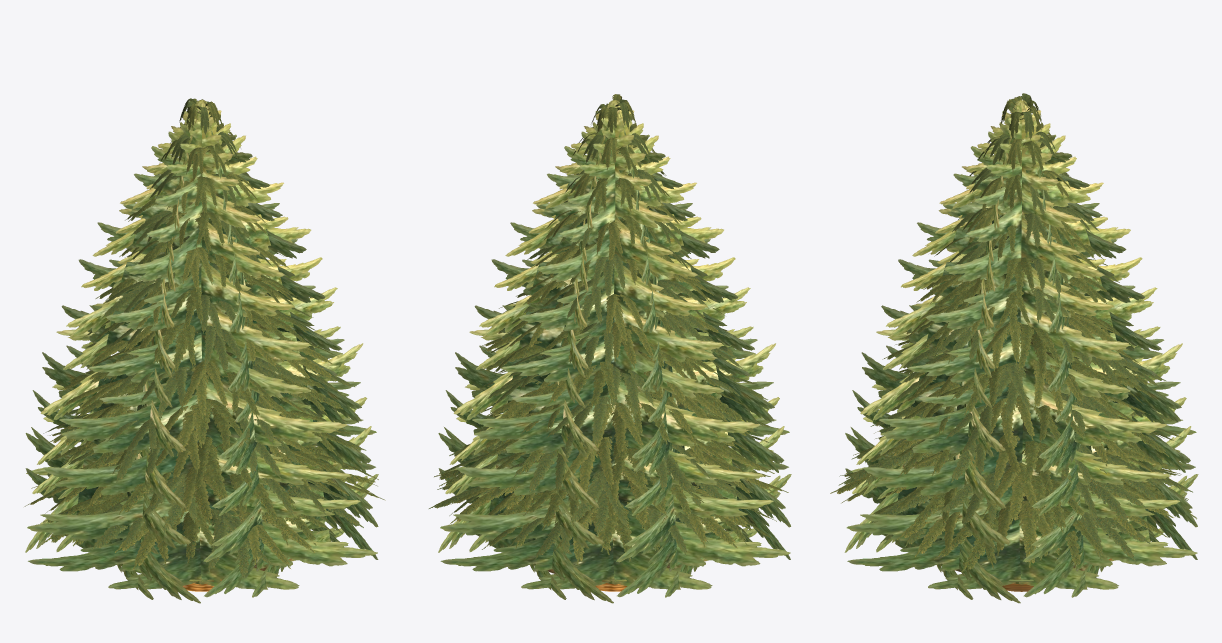
File: TallFir.glb
3 renders of one model, left to right at view 1: azimuth 30°, elevation 25°; view 2: azimuth 150°, elevation 25°; view 3: azimuth 270°, elevation 25°, orthographic.
Visible parts, largest first — view 1: Layered painted fir.001, Branch fans 1.001, Branch fans 2.001, Branch fans 0.001; view 2: Layered painted fir.001, Branch fans 2.001, Branch fans 0.001, Branch fans 1.001; view 3: Layered painted fir.001, Branch fans 2.001, Branch fans 1.001, Branch fans 0.001.
Boxes of the visible parts, <box> form: Layered painted fir.001: <box>25,100,378,603</box>; Branch fans 1.001: <box>40,98,378,563</box>; Branch fans 2.001: <box>43,98,369,578</box>; Branch fans 0.001: <box>24,99,385,569</box>; Layered painted fir.001: <box>438,100,791,603</box>; Branch fans 2.001: <box>429,99,774,559</box>; Branch fans 0.001: <box>450,94,788,564</box>; Branch fans 1.001: <box>434,103,776,561</box>; Layered painted fir.001: <box>844,100,1198,603</box>; Branch fans 2.001: <box>838,93,1192,561</box>; Branch fans 1.001: <box>853,100,1196,572</box>; Branch fans 0.001: <box>830,96,1181,567</box>.
Size of the model in its own units: 2.5 by 3.25 by 2.34.
4 materials, 4 textured.
